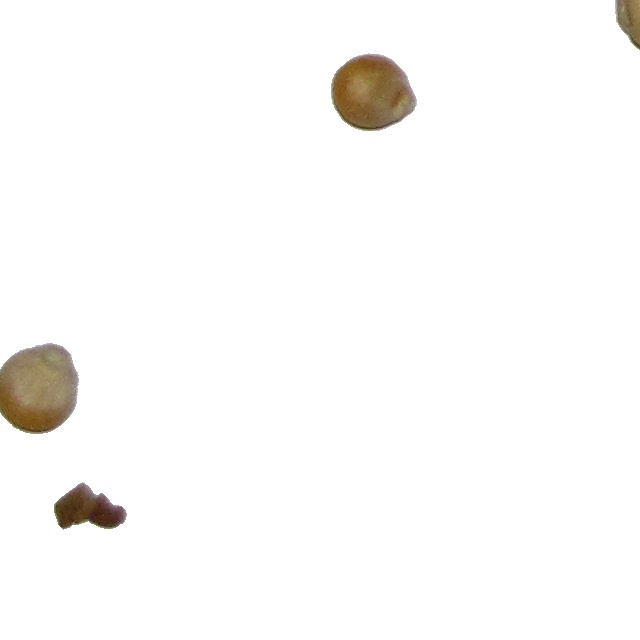buckwheat: (53, 481, 128, 531)
mais: (330, 52, 418, 132)
